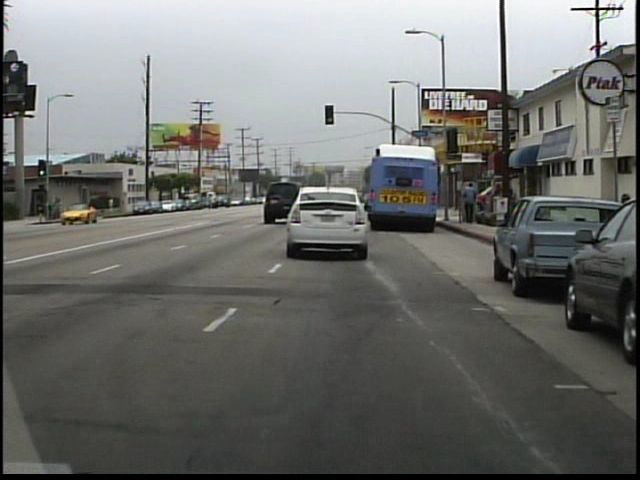person: (457, 181, 477, 227), (105, 192, 119, 218)
